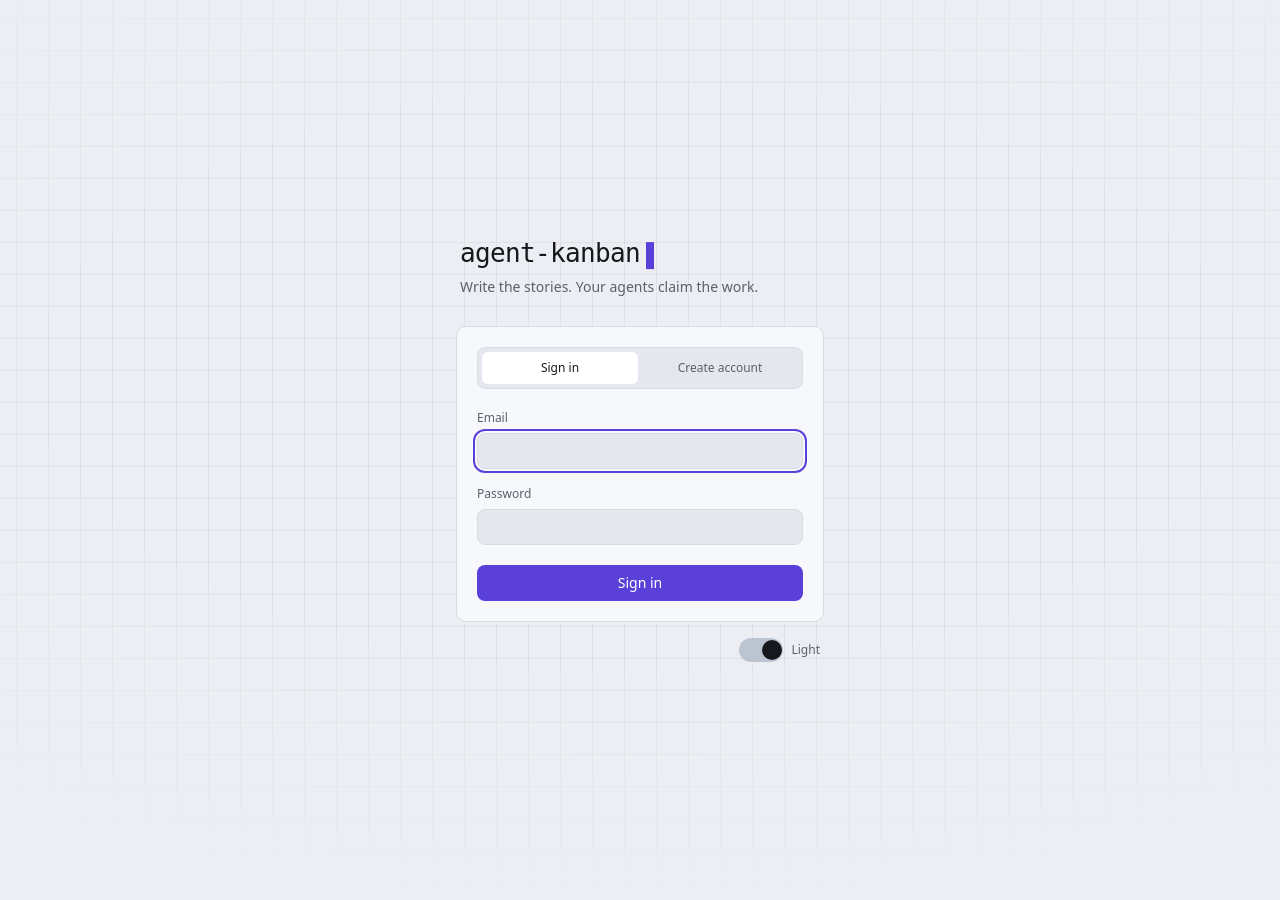
it: AuthScreen › shows a server error message
The width and height of the screenshot is (1280, 900).
Type "dev@example.com" into the field labelled "Email" at (640, 450), box [477,432,803,468]
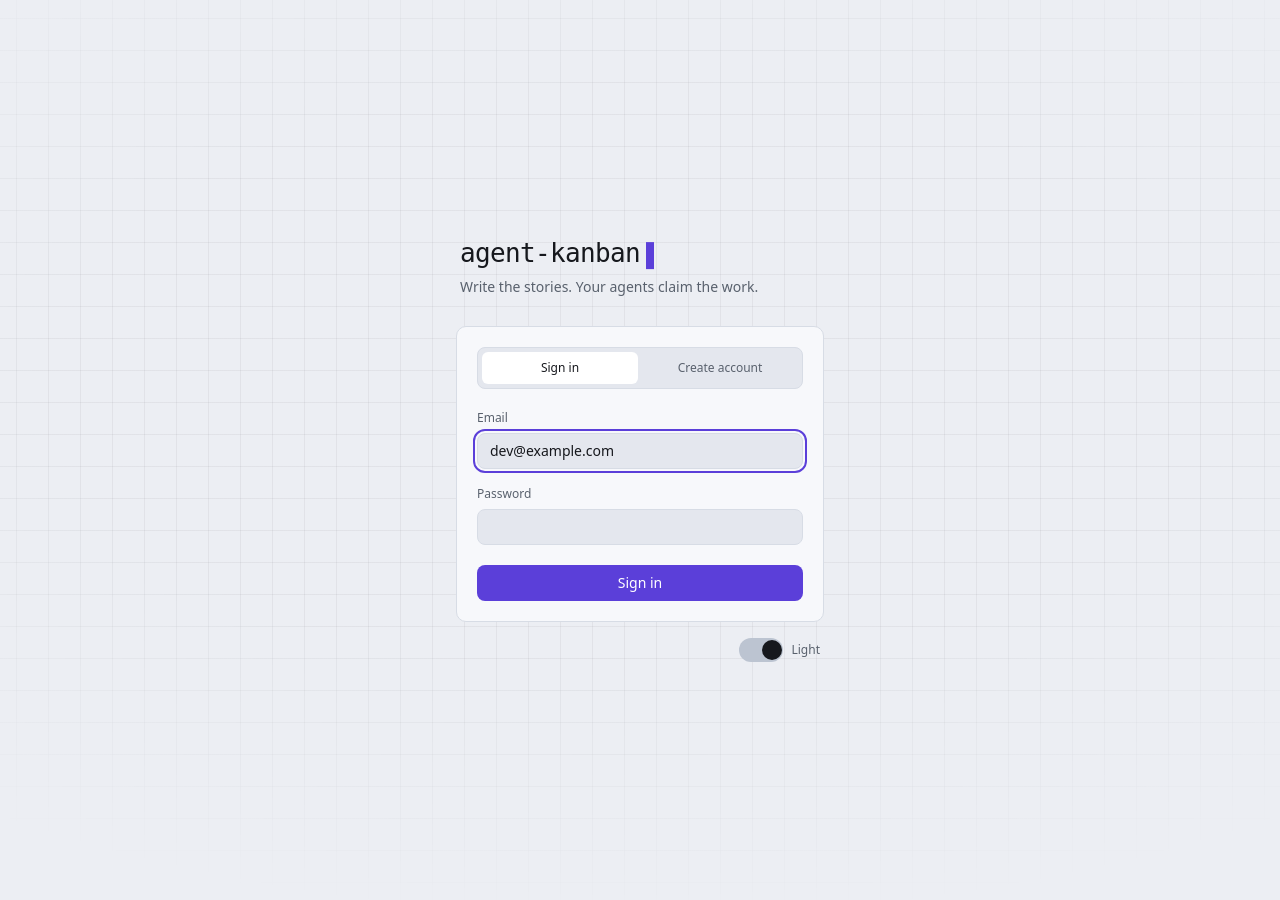
Type "correct-horse-battery" into the password field labelled "Password" at (640, 526), box [477,508,803,544]
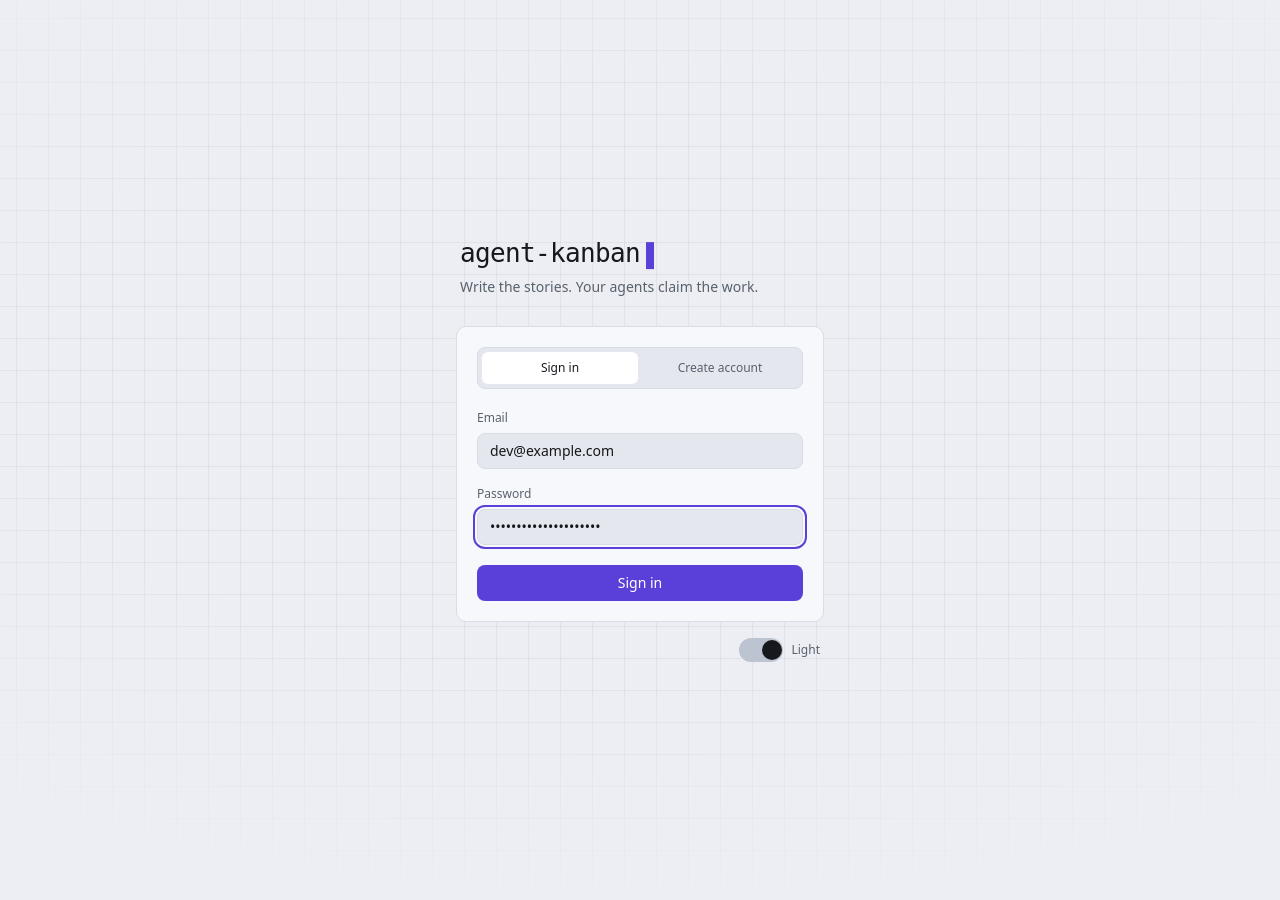
Click the button "Sign in" at (640, 582), box [477,564,803,600]
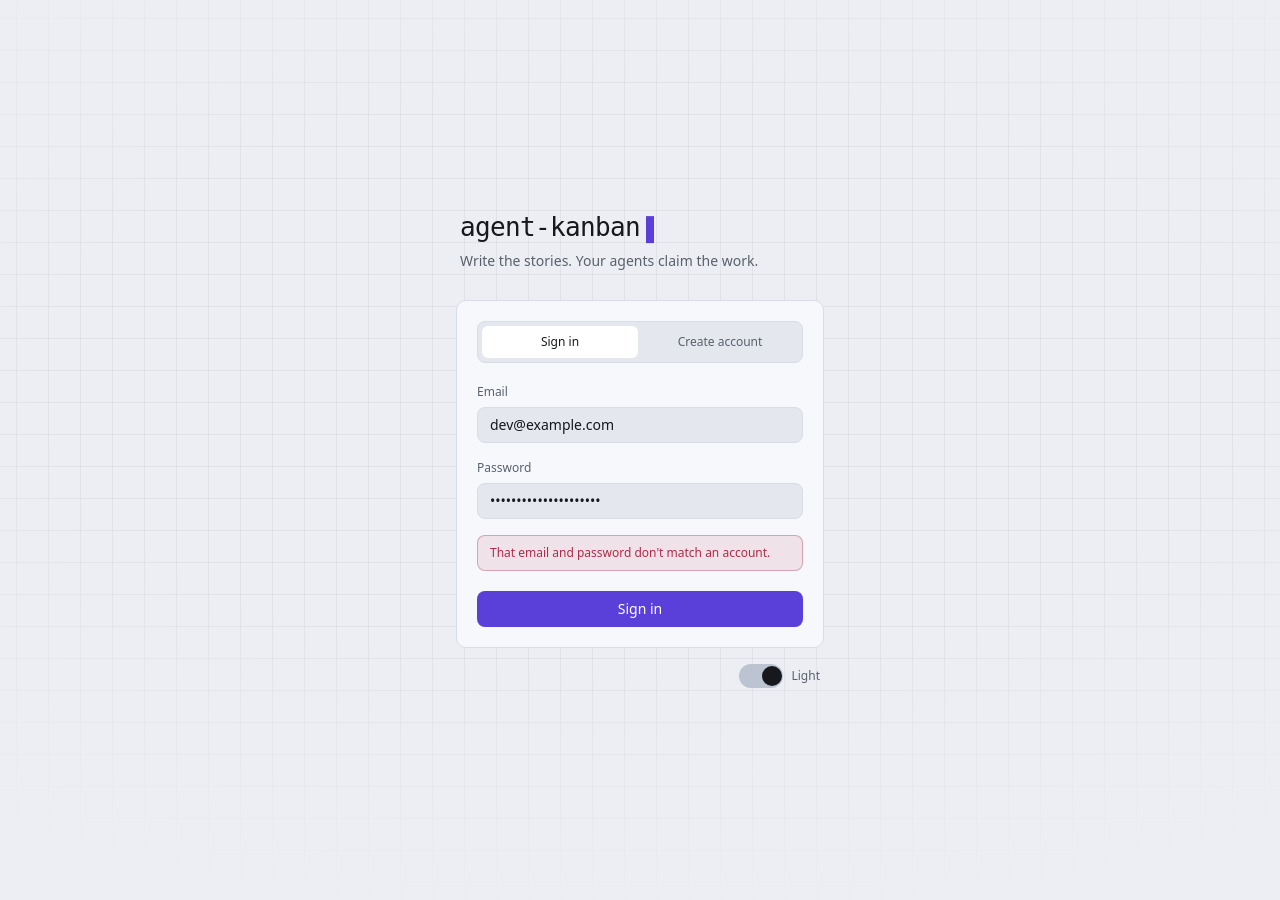
Check: the message reads "That email and password don't match an account.", box [490,544,770,560]
